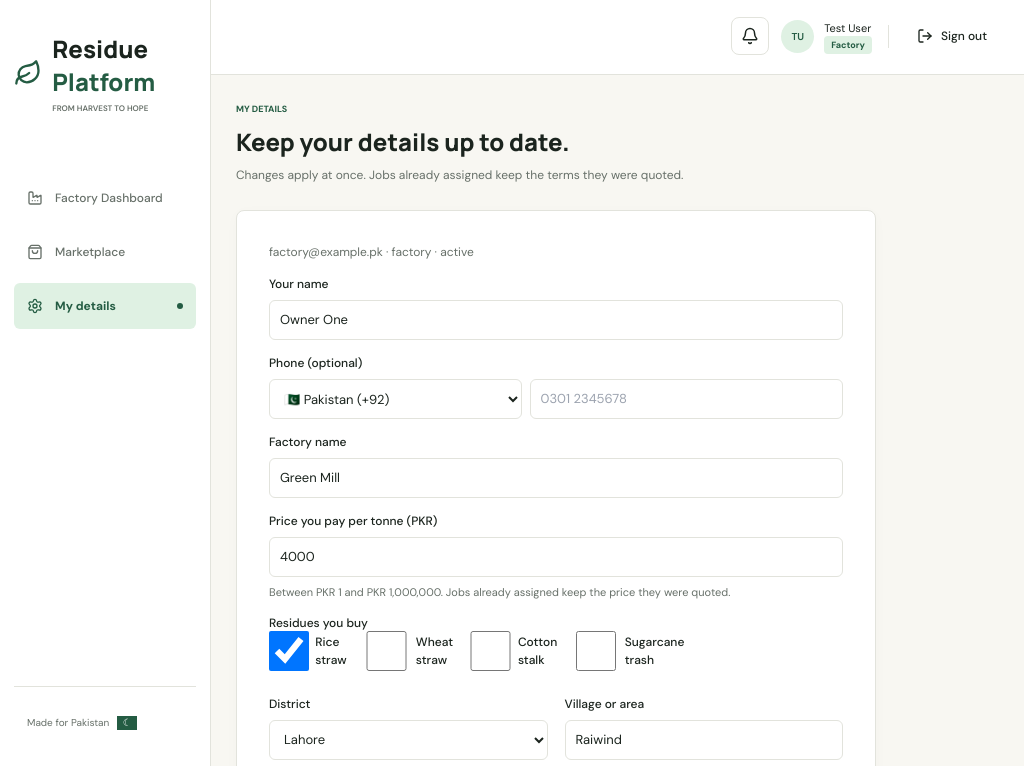
Settings: a factory edits its own details › Reset puts every field back
Step 1. Replace the text in the field labelled "Factory name" with "Changed" → (556, 478), box left=269, top=458, right=843, bottom=498
(page scrolled)
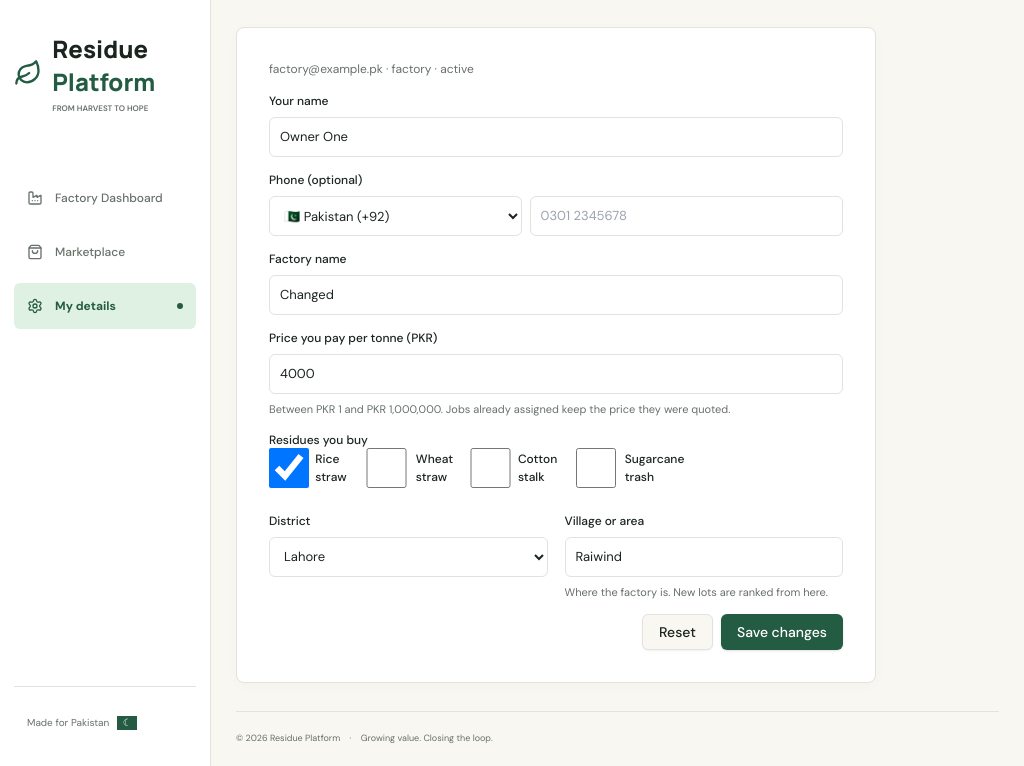
Step 2. Click the button "Reset" → (677, 632), box left=642, top=614, right=713, bottom=650
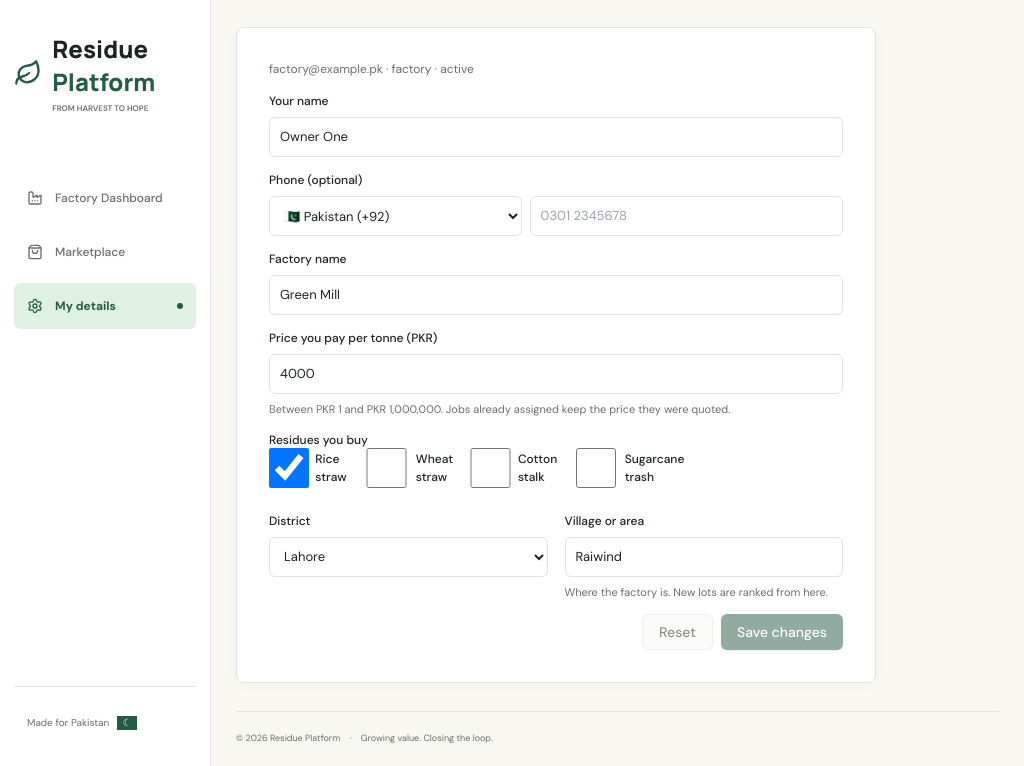
Check: the field labelled "Factory name" holds "Green Mill", box left=269, top=275, right=843, bottom=315
Check: the button "Save changes" is disabled, box left=721, top=614, right=843, bottom=650
